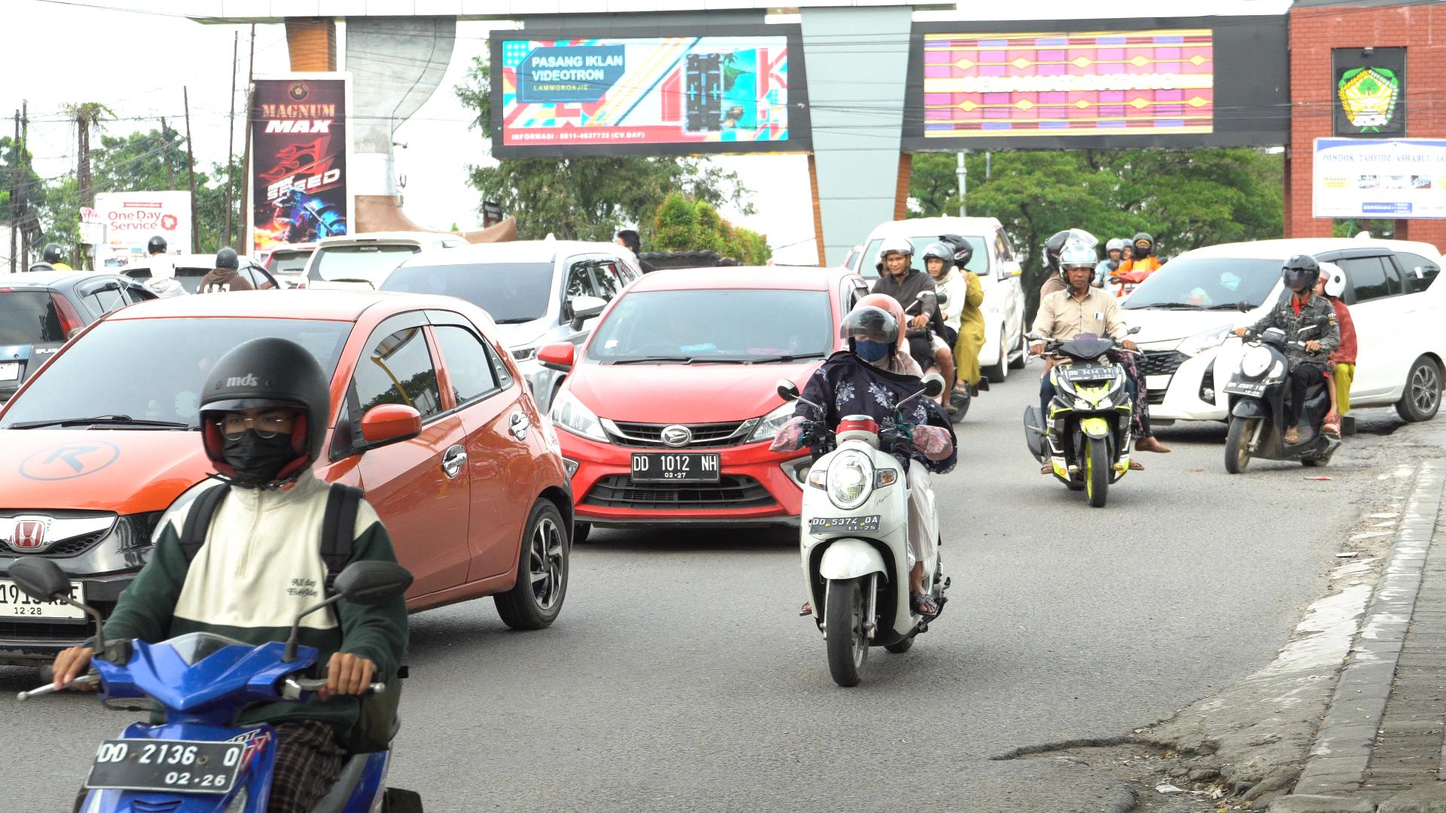number-plate: (83, 738, 247, 793), (813, 518, 884, 536), (1065, 361, 1121, 376)
